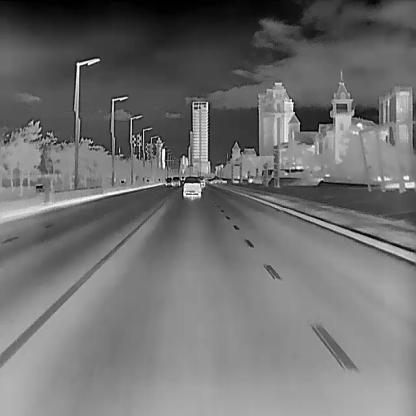car: (182, 176, 200, 198), (198, 175, 205, 187), (172, 176, 179, 186), (163, 177, 171, 185)
